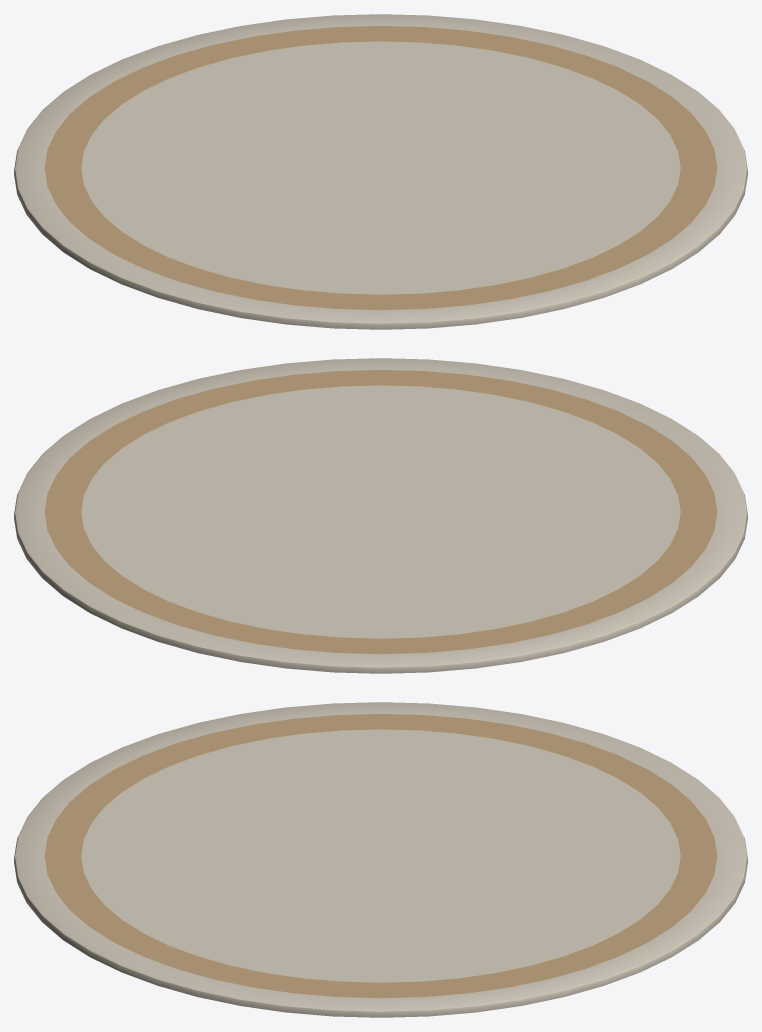
File: rug.glb
3 renders of one model, top to bottom at view 1: azimuth 30°, elevation 25°; view 2: azimuth 150°, elevation 25°; view 3: azimuth 270°, elevation 25°, orthographic.
Parts seen in each view (by area): view 1: rug; view 2: rug; view 3: rug.
Part boxes in pixels (left/top/right/bottom): rug: left=14, top=14, right=747, bottom=329; rug: left=14, top=358, right=747, bottom=673; rug: left=14, top=702, right=747, bottom=1017.
Size of the model in its own units: 1.2 by 0.012 by 1.2.
